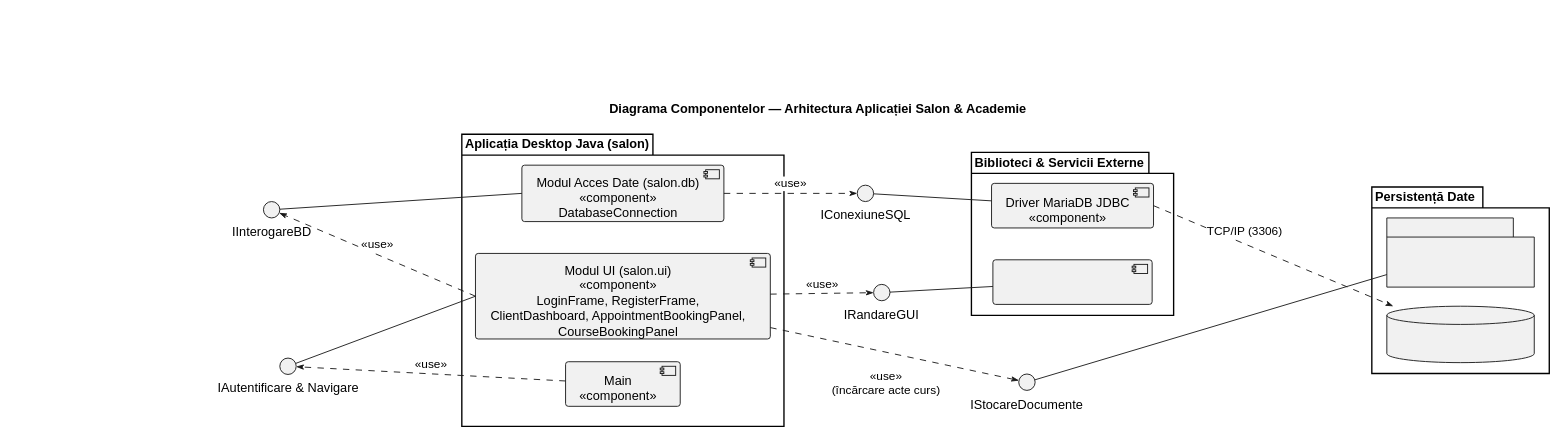
This 1565x442 diagram has some shape labels left out. Each missing label, with the centre of its shape:
Baza de Date MariaDB (proiect_salon) «component»: [1460,334]
Java Swing & FlatLaf «component»: [1072,281]
Sistem Fișiere Local (documents/) «component»: [1460,252]
